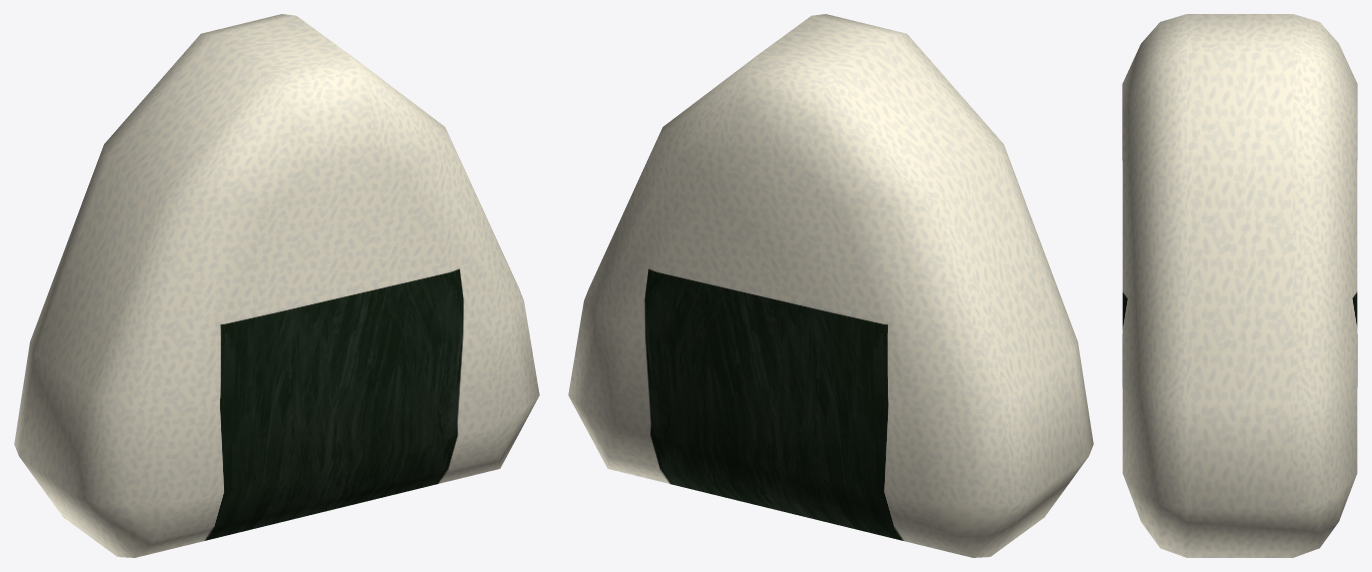
Rendered from onigiri.fbx.
3 views of the same model, side by side, from view 1: azimuth 30°, elevation 25°; view 2: azimuth 150°, elevation 25°; view 3: azimuth 270°, elevation 25° (orthographic).
Parts seen in each view (by area): view 1: Onigiri; view 2: Onigiri; view 3: Onigiri.
Part boxes in pixels (x1,y1,x2,y2): Onigiri: (14,14,539,557); Onigiri: (568,14,1093,557); Onigiri: (1122,14,1357,557).
Size of the model in its own units: 109 by 100 by 48.92.
